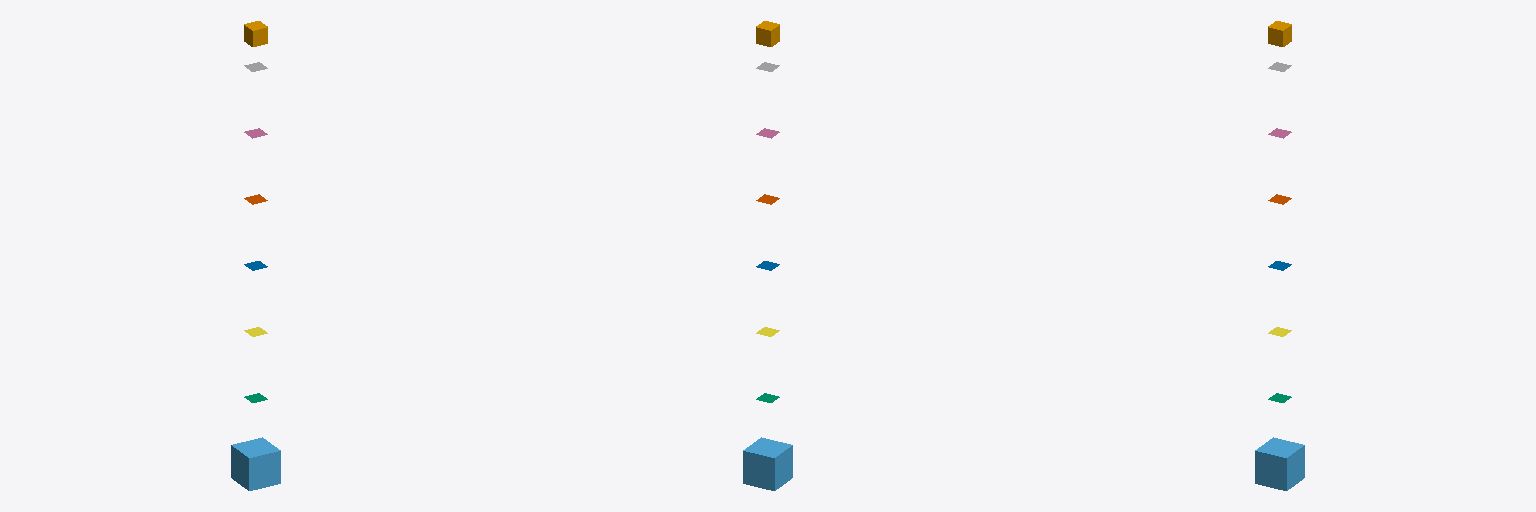
The robot description file, URDF, robot "pegasus":
<?xml version="1.0" ?>
<!-- =================================================================================== -->
<!-- |    This document was autogenerated by xacro from [local-path]/ros2-ws/src/pegasus_arm_description/URDF/pegasus_arm.urdf.xacro | -->
<!-- |    EDITING THIS FILE BY HAND IS NOT RECOMMENDED                                 | -->
<!-- =================================================================================== -->
<robot name="pegasus">
  <!-- World link and joint -->
  <link name="world"/>
  <joint name="world_to_base_joint" type="fixed">
    <parent link="world"/>
    <child link="base_link"/>
    <origin rpy="0 0 0" xyz="0 0 0"/>
  </joint>
  <!-- Base link -->
  <link name="base_link">
    <inertial>
      <origin rpy="0 0 0" xyz="0 0 0"/>
      <mass value="1.0"/>
      <inertia ixx="0.01" ixy="0.0" ixz="0.0" iyy="0.01" iyz="0.0" izz="0.01"/>
    </inertial>
    <visual>
      <origin rpy="0 0 0" xyz="0 0 0"/>
      <geometry>
        <box size="0.1 0.1 0.1"/>
      </geometry>
    </visual>
    <collision>
      <origin rpy="0 0 0" xyz="0 0 0"/>
      <geometry>
        <box size="0.1 0.1 0.1"/>
      </geometry>
    </collision>
  </link>
  <!-- Link 1 -->
  <link name="link1">
    <inertial>
      <origin rpy="0 0 0" xyz="0 0 0.1"/>
      <mass value="0.5"/>
      <inertia ixx="0.005" ixy="0.0" ixz="0.0" iyy="0.005" iyz="0.0" izz="0.005"/>
    </inertial>
    <visual>
      <origin rpy="0 0 0" xyz="0 0 0.1"/>
      <geometry>
        <box size="0.05 0.05 0.0"/>
      </geometry>
    </visual>
    <collision>
      <origin rpy="0 0 0" xyz="0 0 0.1"/>
      <geometry>
        <box size="0.05 0.05 0.0"/>
      </geometry>
    </collision>
  </link>
  <joint name="joint1" type="revolute">
    <parent link="base_link"/>
    <child link="link1"/>
    <origin rpy="0 0 0" xyz="0 0 0.1"/>
    <axis xyz="0 0 1"/>
    <limit effort="10" lower="-1.57" upper="1.57" velocity="1"/>
  </joint>
  <transmission name="joint_1">
    <type>transmission_interface/SimpleTransmission</type>
    <joint name="joint1">
      <hardwareInterface>hardware_interface/PositionJointInterface</hardwareInterface>
    </joint>
    <actuator name="motor1">
      <mechanicalReduction>1</mechanicalReduction>
    </actuator>
  </transmission>
  <!-- Link 2 -->
  <link name="link2">
    <inertial>
      <origin rpy="0 0 0" xyz="0 0 0.1"/>
      <mass value="0.5"/>
      <inertia ixx="0.005" ixy="0.0" ixz="0.0" iyy="0.005" iyz="0.0" izz="0.005"/>
    </inertial>
    <visual>
      <origin rpy="0 0 0" xyz="0 0 0.1"/>
      <geometry>
        <box size="0.05 0.05 0.0"/>
      </geometry>
    </visual>
    <collision>
      <origin rpy="0 0 0" xyz="0 0 0.1"/>
      <geometry>
        <box size="0.05 0.05 0.0"/>
      </geometry>
    </collision>
  </link>
  <joint name="joint2" type="revolute">
    <parent link="link1"/>
    <child link="link2"/>
    <origin rpy="0 0 0" xyz="0 0 0.2"/>
    <axis xyz="0 0 1"/>
    <limit effort="10" lower="-1.57" upper="1.57" velocity="1"/>
  </joint>
  <transmission name="joint_2">
    <type>transmission_interface/SimpleTransmission</type>
    <joint name="joint2">
      <hardwareInterface>hardware_interface/PositionJointInterface</hardwareInterface>
    </joint>
    <actuator name="motor2">
      <mechanicalReduction>1</mechanicalReduction>
    </actuator>
  </transmission>
  <!-- Link 3 -->
  <link name="link3">
    <inertial>
      <origin rpy="0 0 0" xyz="0 0 0.1"/>
      <mass value="0.5"/>
      <inertia ixx="0.005" ixy="0.0" ixz="0.0" iyy="0.005" iyz="0.0" izz="0.005"/>
    </inertial>
    <visual>
      <origin rpy="0 0 0" xyz="0 0 0.1"/>
      <geometry>
        <box size="0.05 0.05 0.0"/>
      </geometry>
    </visual>
    <collision>
      <origin rpy="0 0 0" xyz="0 0 0.1"/>
      <geometry>
        <box size="0.05 0.05 0.0"/>
      </geometry>
    </collision>
  </link>
  <joint name="joint3" type="revolute">
    <parent link="link2"/>
    <child link="link3"/>
    <origin rpy="0 0 0" xyz="0 0 0.2"/>
    <axis xyz="0 0 1"/>
    <limit effort="10" lower="-1.57" upper="1.57" velocity="1"/>
  </joint>
  <transmission name="joint_3">
    <type>transmission_interface/SimpleTransmission</type>
    <joint name="joint3">
      <hardwareInterface>hardware_interface/PositionJointInterface</hardwareInterface>
    </joint>
    <actuator name="motor3">
      <mechanicalReduction>1</mechanicalReduction>
    </actuator>
  </transmission>
  <!-- Link 4 -->
  <link name="link4">
    <inertial>
      <origin rpy="0 0 0" xyz="0 0 0.1"/>
      <mass value="0.5"/>
      <inertia ixx="0.005" ixy="0.0" ixz="0.0" iyy="0.005" iyz="0.0" izz="0.005"/>
    </inertial>
    <visual>
      <origin rpy="0 0 0" xyz="0 0 0.1"/>
      <geometry>
        <box size="0.05 0.05 0.0"/>
      </geometry>
    </visual>
    <collision>
      <origin rpy="0 0 0" xyz="0 0 0.1"/>
      <geometry>
        <box size="0.05 0.05 0.0"/>
      </geometry>
    </collision>
  </link>
  <joint name="joint4" type="revolute">
    <parent link="link3"/>
    <child link="link4"/>
    <origin rpy="0 0 0" xyz="0 0 0.2"/>
    <axis xyz="0 0 1"/>
    <limit effort="10" lower="-1.57" upper="1.57" velocity="1"/>
  </joint>
  <transmission name="joint_4">
    <type>transmission_interface/SimpleTransmission</type>
    <joint name="joint4">
      <hardwareInterface>hardware_interface/PositionJointInterface</hardwareInterface>
    </joint>
    <actuator name="motor4">
      <mechanicalReduction>1</mechanicalReduction>
    </actuator>
  </transmission>
  <!-- Link 5 -->
  <link name="link5">
    <inertial>
      <origin rpy="0 0 0" xyz="0 0 0.1"/>
      <mass value="0.5"/>
      <inertia ixx="0.005" ixy="0.0" ixz="0.0" iyy="0.005" iyz="0.0" izz="0.005"/>
    </inertial>
    <visual>
      <origin rpy="0 0 0" xyz="0 0 0.1"/>
      <geometry>
        <box size="0.05 0.05 0.0"/>
      </geometry>
    </visual>
    <collision>
      <origin rpy="0 0 0" xyz="0 0 0.1"/>
      <geometry>
        <box size="0.05 0.05 0.0"/>
      </geometry>
    </collision>
  </link>
  <joint name="joint5" type="revolute">
    <parent link="link4"/>
    <child link="link5"/>
    <origin rpy="0 0 0" xyz="0 0 0.2"/>
    <axis xyz="0 0 1"/>
    <limit effort="10" lower="-1.57" upper="1.57" velocity="1"/>
  </joint>
  <transmission name="joint_5">
    <type>transmission_interface/SimpleTransmission</type>
    <joint name="joint5">
      <hardwareInterface>hardware_interface/PositionJointInterface</hardwareInterface>
    </joint>
    <actuator name="motor5">
      <mechanicalReduction>1</mechanicalReduction>
    </actuator>
  </transmission>
  <!-- Link 6 -->
  <link name="link6">
    <inertial>
      <origin rpy="0 0 0" xyz="0 0 0.1"/>
      <mass value="0.5"/>
      <inertia ixx="0.005" ixy="0.0" ixz="0.0" iyy="0.005" iyz="0.0" izz="0.005"/>
    </inertial>
    <visual>
      <origin rpy="0 0 0" xyz="0 0 0.1"/>
      <geometry>
        <box size="0.05 0.05 0.0"/>
      </geometry>
    </visual>
    <collision>
      <origin rpy="0 0 0" xyz="0 0 0.1"/>
      <geometry>
        <box size="0.05 0.05 0.0"/>
      </geometry>
    </collision>
  </link>
  <joint name="joint6" type="revolute">
    <parent link="link5"/>
    <child link="link6"/>
    <origin rpy="0 0 0" xyz="0 0 0.2"/>
    <axis xyz="0 0 1"/>
    <limit effort="10" lower="-1.57" upper="1.57" velocity="1"/>
  </joint>
  <transmission name="joint_6">
    <type>transmission_interface/SimpleTransmission</type>
    <joint name="joint6">
      <hardwareInterface>hardware_interface/PositionJointInterface</hardwareInterface>
    </joint>
    <actuator name="motor6">
      <mechanicalReduction>1</mechanicalReduction>
    </actuator>
  </transmission>
  <!-- End effector link -->
  <link name="end_effector_link">
    <inertial>
      <origin rpy="0 0 0" xyz="0 0 0"/>
      <mass value="0.1"/>
      <inertia ixx="0.001" ixy="0.0" ixz="0.0" iyy="0.001" iyz="0.0" izz="0.001"/>
    </inertial>
    <visual>
      <origin rpy="0 0 0" xyz="0 0 0"/>
      <geometry>
        <box size="0.05 0.05 0.05"/>
      </geometry>
    </visual>
    <collision>
      <origin rpy="0 0 0" xyz="0 0 0"/>
      <geometry>
        <box size="0.05 0.05 0.05"/>
      </geometry>
    </collision>
  </link>
  <joint name="joint6_to_end_effector" type="fixed">
    <parent link="link6"/>
    <child link="end_effector_link"/>
    <origin rpy="0 0 0" xyz="0 0 0.2"/>
  </joint>
  <!-- ros2_control -->
  <ros2_control name="PegasusArm" type="system">
    <hardware>
      <plugin>mock_components/GenericSystem</plugin>
      <param name="use_mock_hardware">true</param>
    </hardware>
    <joint name="joint1">
      <command_interface name="position">
        <param name="min">-1.57</param>
        <param name="max">1.57</param>
      </command_interface>
    </joint>
    <joint name="joint2">
      <command_interface name="position">
        <param name="min">-1.57</param>
        <param name="max">1.57</param>
      </command_interface>
    </joint>
    <joint name="joint3">
      <command_interface name="position">
        <param name="min">-1.57</param>
        <param name="max">1.57</param>
      </command_interface>
    </joint>
    <joint name="joint4">
      <command_interface name="position">
        <param name="min">-1.57</param>
        <param name="max">1.57</param>
      </command_interface>
    </joint>
    <joint name="joint5">
      <command_interface name="position">
        <param name="min">-1.57</param>
        <param name="max">1.57</param>
      </command_interface>
    </joint>
    <joint name="joint6">
      <command_interface name="position">
        <param name="min">-1.57</param>
        <param name="max">1.57</param>
      </command_interface>
    </joint>
  </ros2_control>
  <!-- Gazebo plugin -->
  <gazebo>
    <plugin filename="libgazebo_ros_control.so" name="gazebo_ros_control">
      <robotNamespace>/</robotNamespace>
    </plugin>
  </gazebo>
</robot>

--- Render facts (derived) ---
3 views of the same robot in one strip: view 1: azimuth 30°, elevation 25°; view 2: azimuth 150°, elevation 25°; view 3: azimuth 330°, elevation 25° (orthographic).
Robot: pegasus — 9 links, 8 joints (6 revolute, 2 fixed); root link world; default pose: all joints at 0.
Links seen in each view (by area): view 1: base_link, end_effector_link; view 2: base_link, end_effector_link; view 3: base_link, end_effector_link.
Boxes of the visible links, box(x1,y1,x2,y2) form: base_link: box(231, 437, 280, 490); end_effector_link: box(244, 21, 267, 46); base_link: box(743, 437, 792, 490); end_effector_link: box(756, 21, 779, 46); base_link: box(1255, 437, 1304, 490); end_effector_link: box(1268, 21, 1291, 46).
Bounding box of the posed robot: 0.1 × 0.1 × 1.38 m (x, y, z).
Geometry: primitives only (box / cylinder / sphere), no mesh files.
